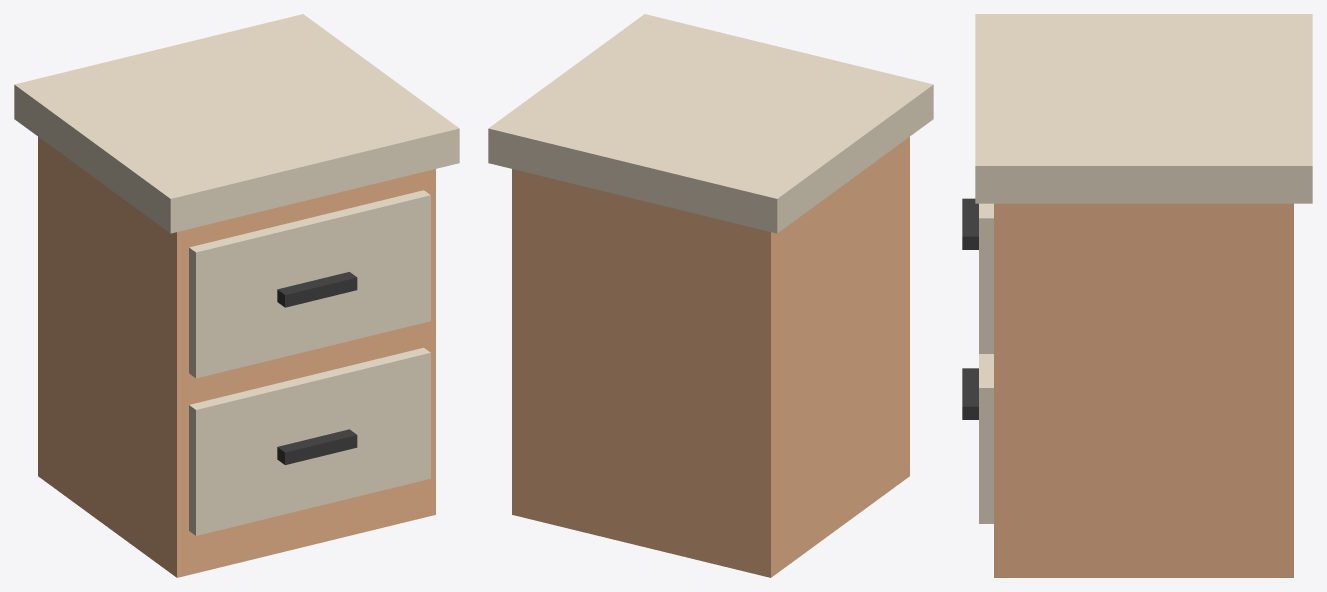
3 renders of one model, left to right at view 1: azimuth 30°, elevation 25°; view 2: azimuth 150°, elevation 25°; view 3: azimuth 270°, elevation 25°, orthographic. The views are drawn at different scales.
Visible parts, largest first — view 1: Body, Top, Drawer.001, Drawer, Grip, Grip.001; view 2: Body, Top; view 3: Body, Top, Drawer, Drawer.001, Grip, Grip.001.
Boxes of the visible parts, x1,y1,x2,y2 form: Body: (38,137,435,577); Top: (14,14,459,233); Drawer.001: (189,190,430,378); Drawer: (189,347,430,535); Grip: (277,429,357,464); Grip.001: (277,272,357,307); Body: (512,137,909,577); Top: (488,14,933,233); Body: (994,203,1293,577); Top: (975,14,1312,203); Drawer: (979,354,993,523); Drawer.001: (979,203,993,353); Grip: (962,368,978,419); Grip.001: (962,198,978,249).
Bounding box in the file's own units: 0.48 × 0.6175 × 0.4675.
Materials: 1 (1 with a texture image).
